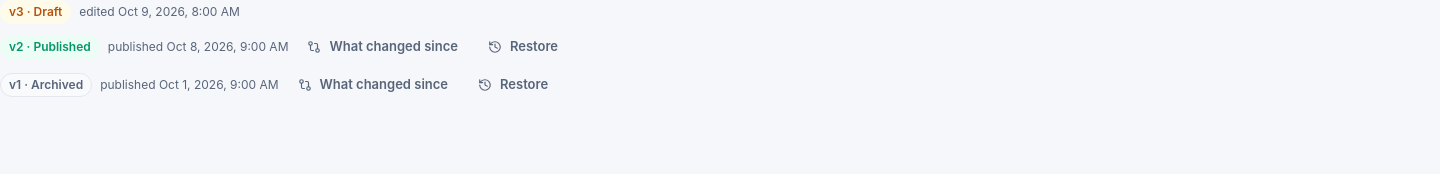
Test: versions of a form › restoring asks before replacing an open draft, and then does it
Click the button with aria-label "Restore v1": (513, 85) [467,70,559,100]
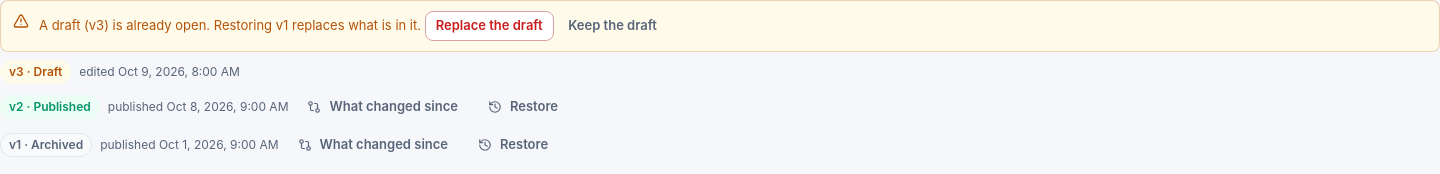
Click the button "Replace the draft": (489, 26) [425,11,554,41]
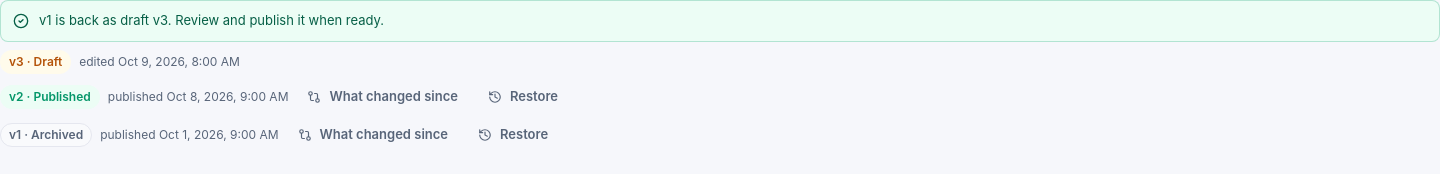
Check: the text "v1 is back as draft v3. Review and publish it when ready." is shown, box [39,11,384,30]
